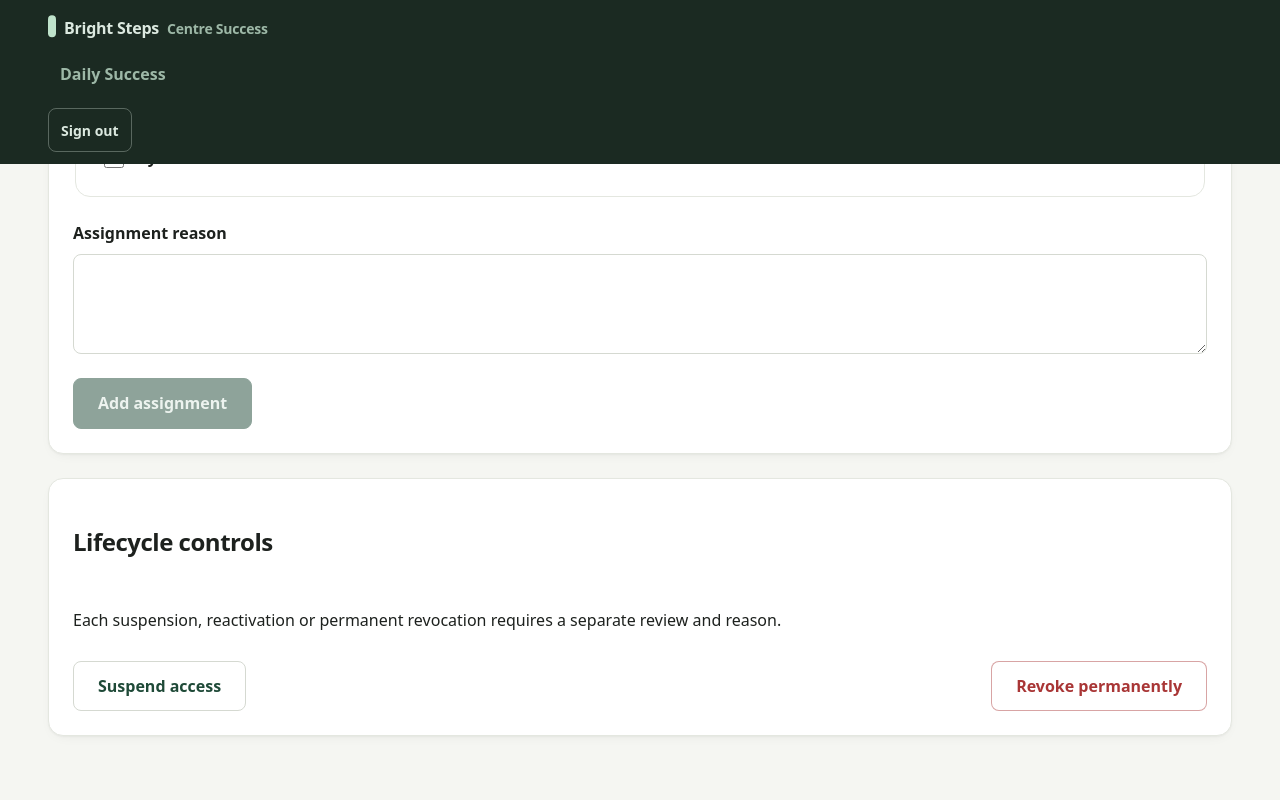
Test: Milestone 2C People & Access experience › keeps suspend confirmation open and shows last-administrator failure inside it
(page scrolled)
Click the button "Suspend access" at [160, 686], box [73,660,246,711]
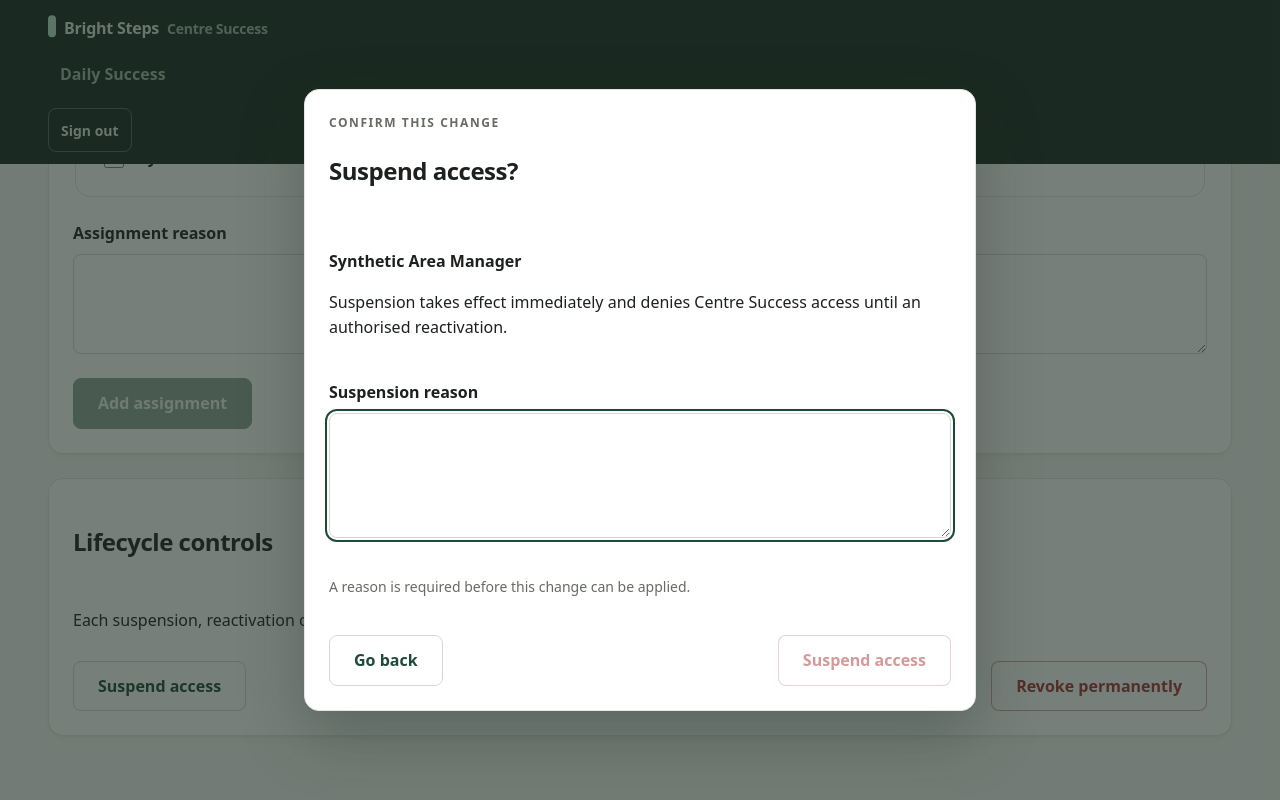
Type "Attempted final administrator suspension" into the text box labelled "Suspension reason" at [640, 475], box [329,412,951,538]
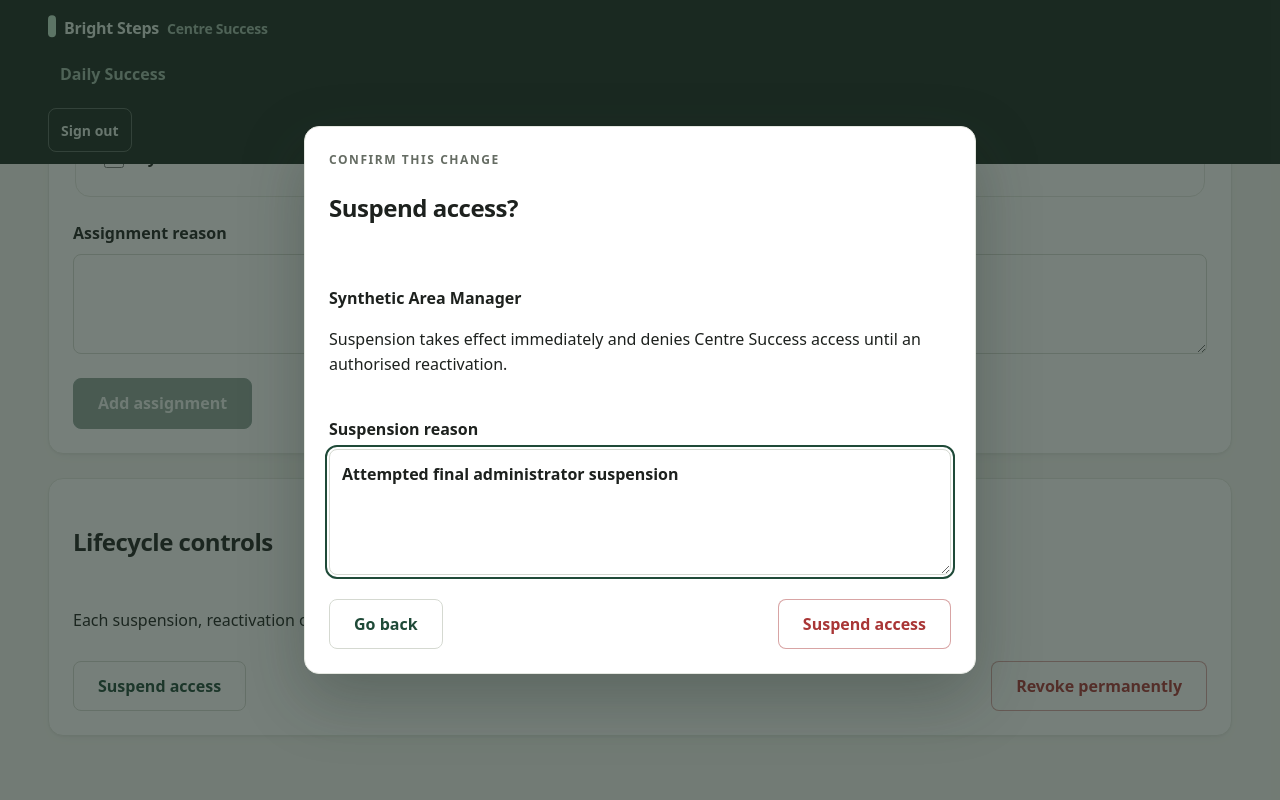
Click the button "Suspend access" at [864, 624], box [778,599,951,649]
(page scrolled)
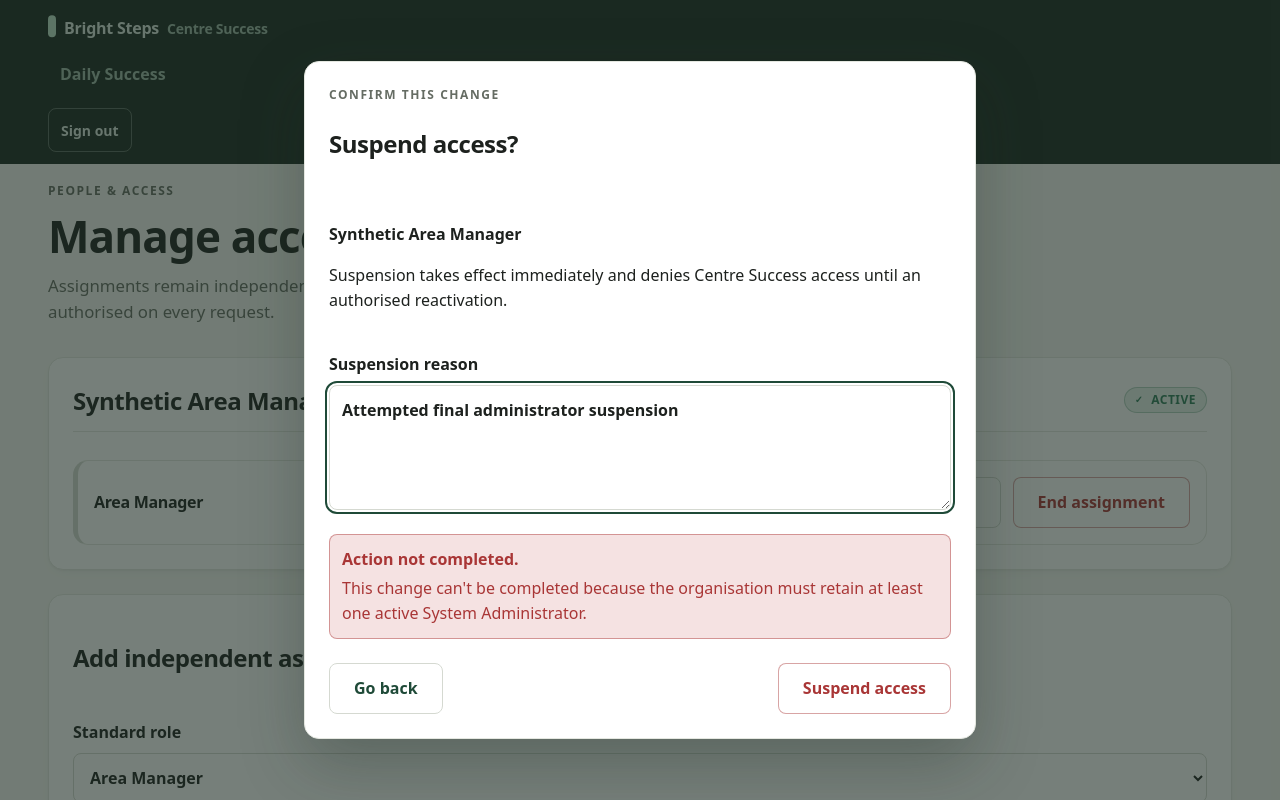
Check: the text "Active" is shown, box [1124,387,1207,414]
Check: the button "Suspend access" is enabled, box [778,663,951,714]
Check: the message shows "retain at least one active System Administrator", box [342,577,923,624]
